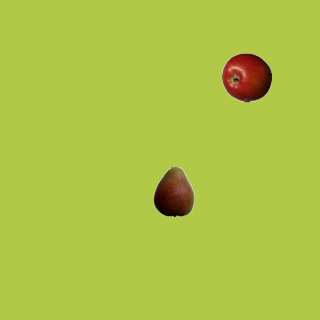Apple Braeburn: (221, 52, 271, 102)
Pear Forelle: (148, 166, 198, 216)
